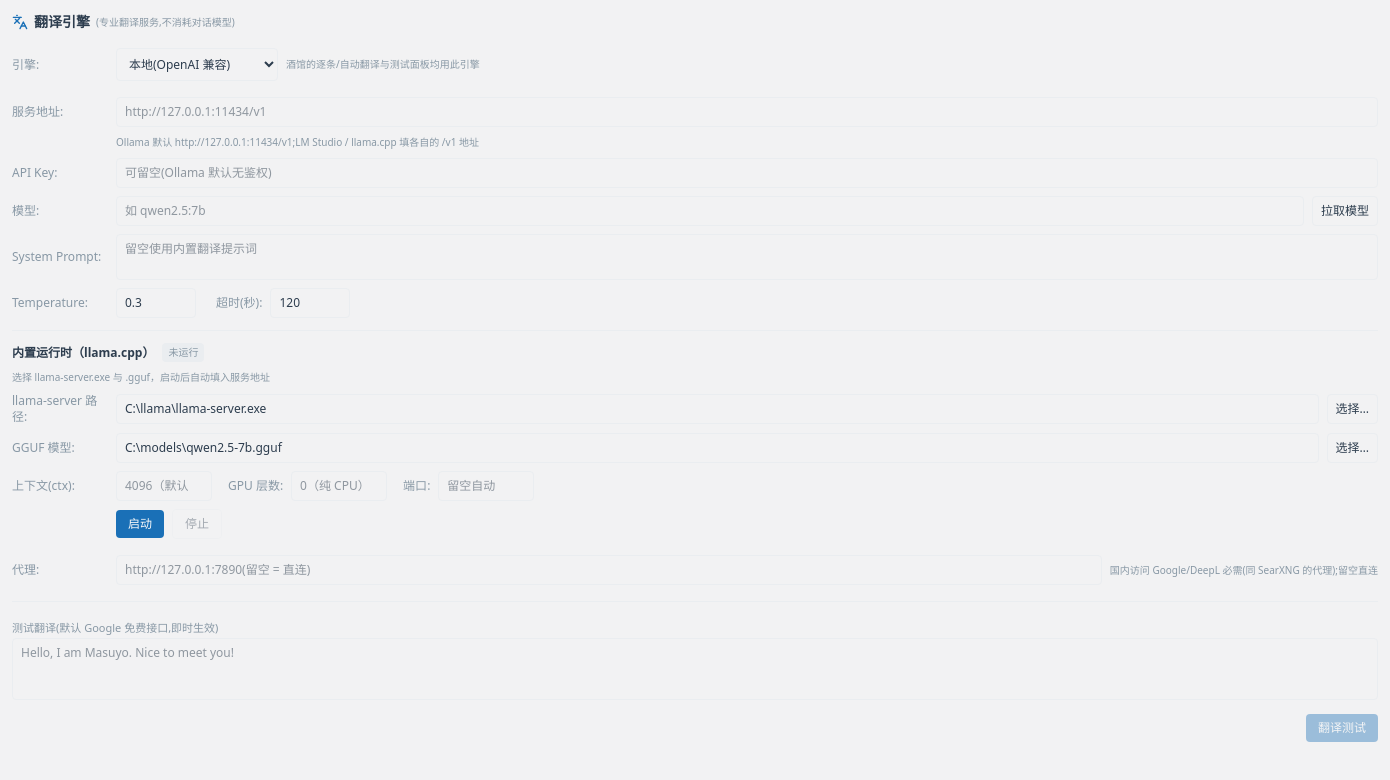
Test case: TranslateManager — 内置运行时（llama.cpp） › 启动失败 → 显示后端 error 文本，状态不再是运行中
Click the button "启动": x=140, y=524 [116,510,164,538]
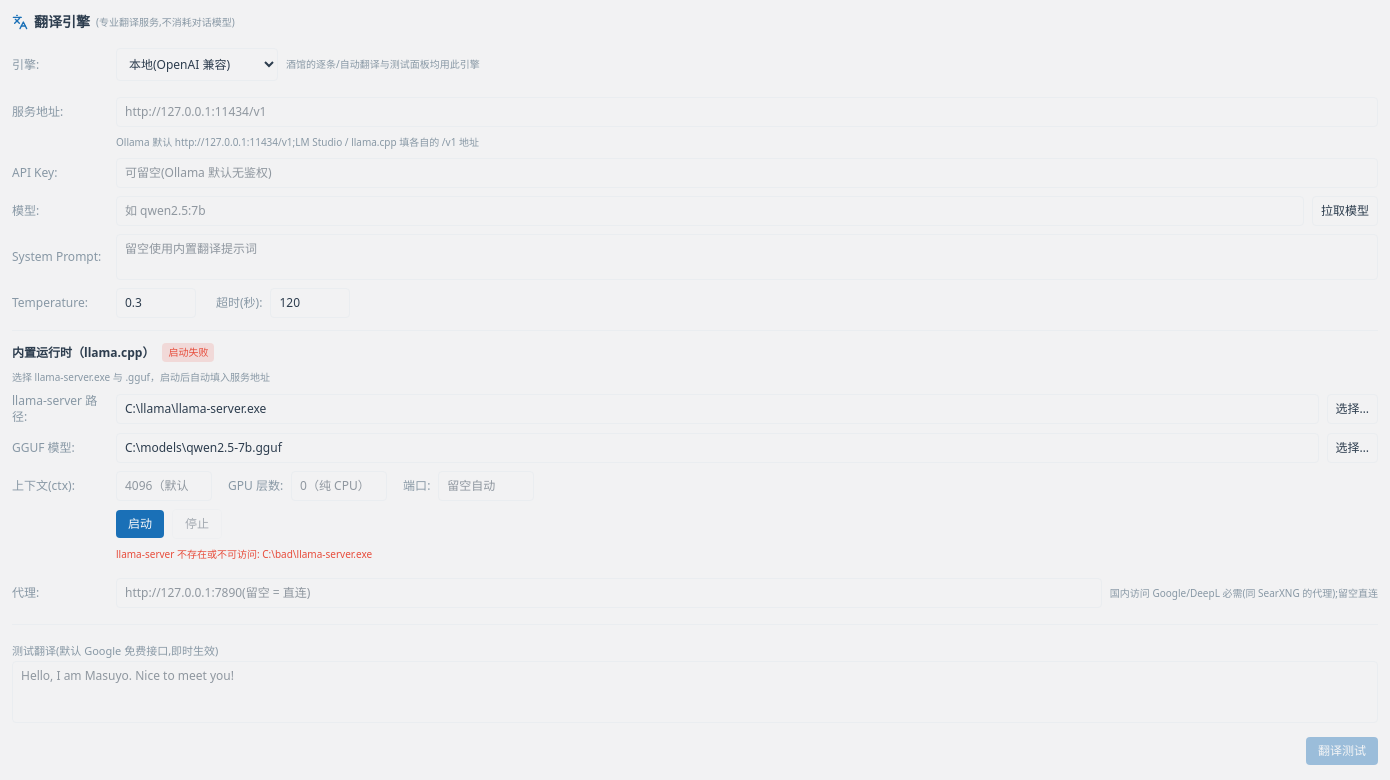
expect the text "llama-server 不存在或不可访问: C:\\bad\\llama-server.exe" is shown: met, box [116,547,372,561]
expect the text "启动失败" is shown: met, box [162,343,214,362]
